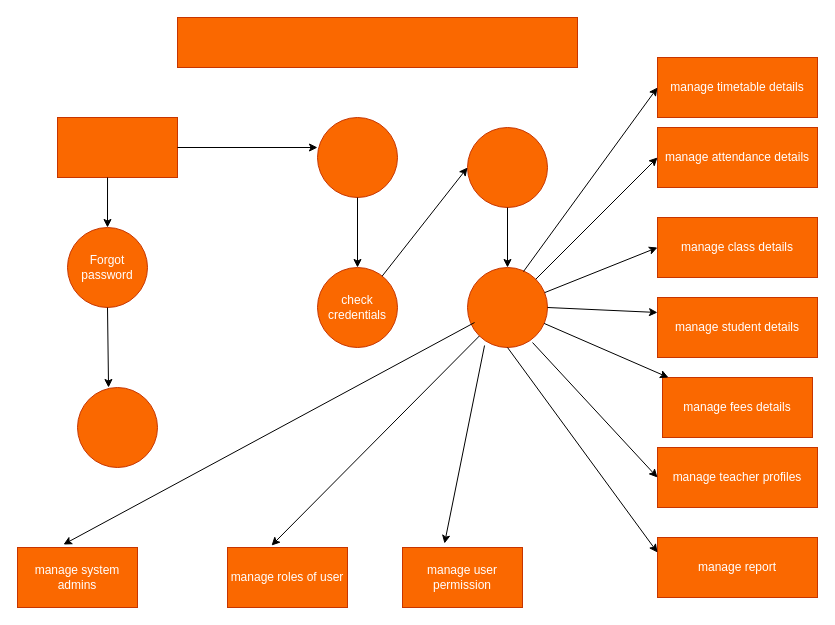
Image size: 835x625. Some labels were removed from this diagram. The centre of each missing label's shape, as x and y in pixels:
Admin: [117,147]
check roles of access: [507,167]
login to system: [357,157]
manage modules: [507,307]
send E-mail to user: [117,427]
student information system: [377,42]
